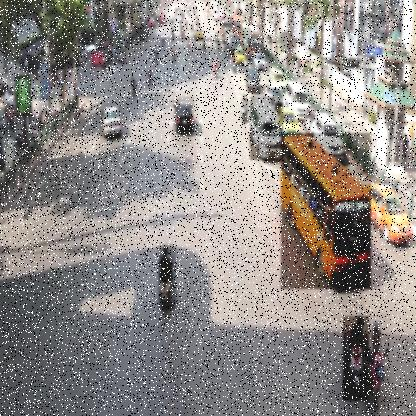bus: (281, 133, 372, 290)
car: (173, 97, 196, 133), (100, 107, 123, 142)
motocycle: (365, 313, 391, 412), (343, 316, 369, 402), (158, 244, 177, 311)
van: (250, 97, 284, 161)
